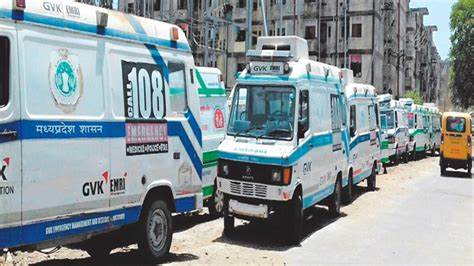ambulance: (1, 2, 207, 260), (220, 34, 357, 227), (381, 87, 449, 168)
